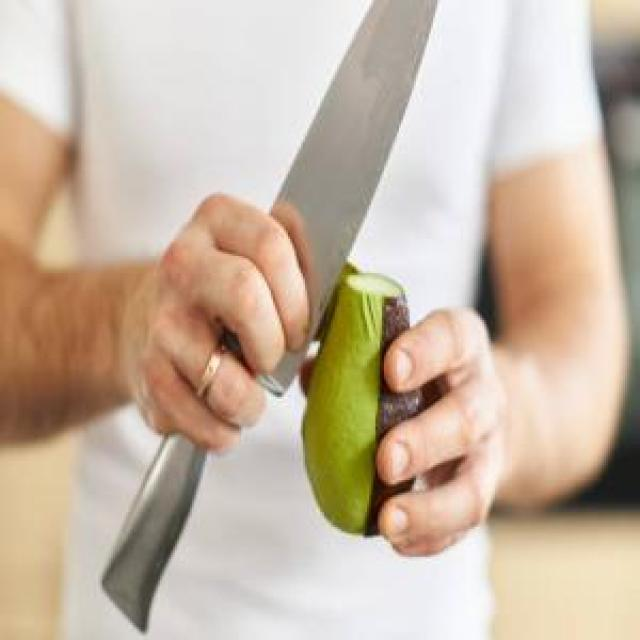knife: (100, 0, 442, 629)
